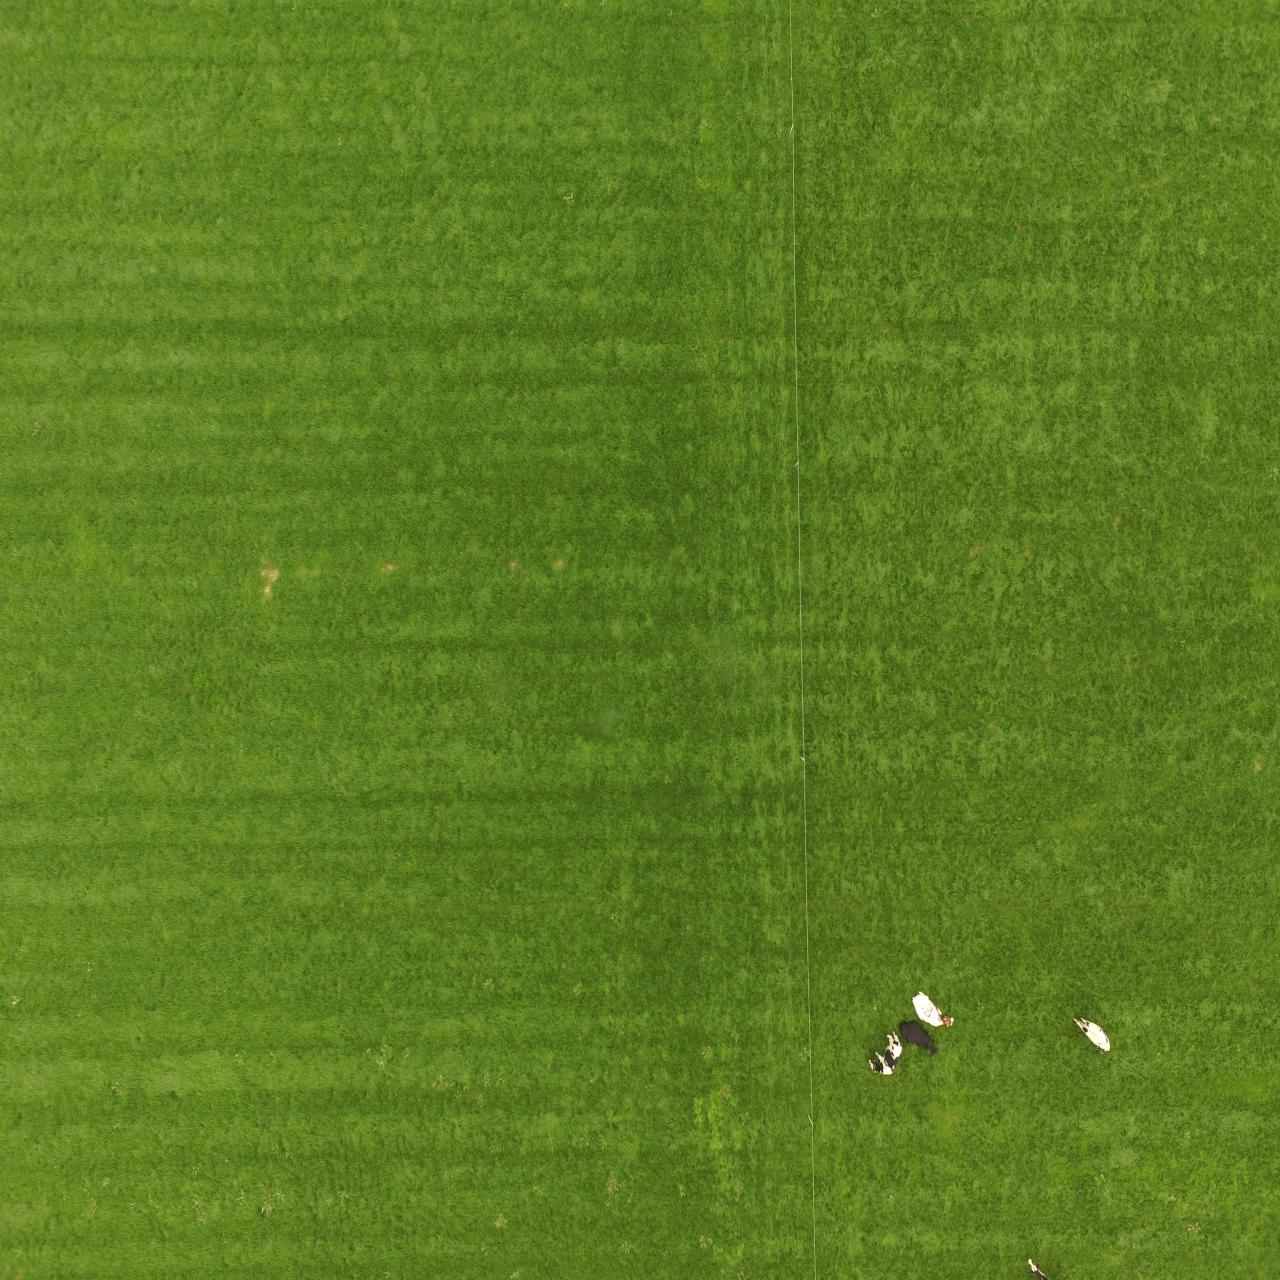cow: (863, 1029, 906, 1076), (908, 988, 958, 1024), (1074, 1014, 1114, 1055), (900, 1021, 939, 1051)
